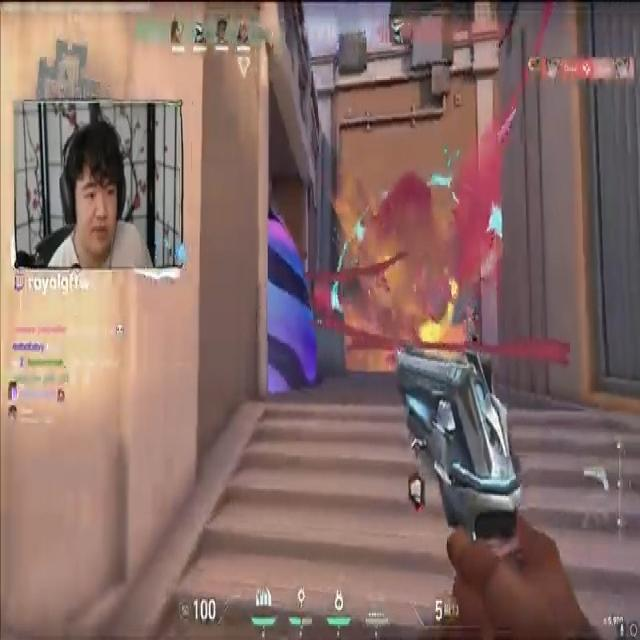smoke: (264, 200, 318, 400)
